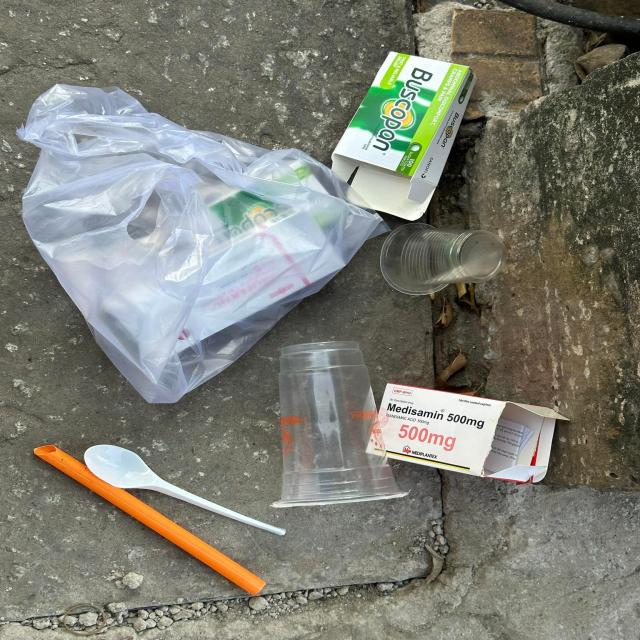cardboard box: (332, 52, 474, 221), (366, 385, 570, 487)
drinking straw: (34, 444, 267, 596)
plastic glass: (269, 341, 405, 508), (382, 227, 502, 296)
plastic utensil: (84, 444, 288, 538)
trash bag: (14, 84, 389, 405)
